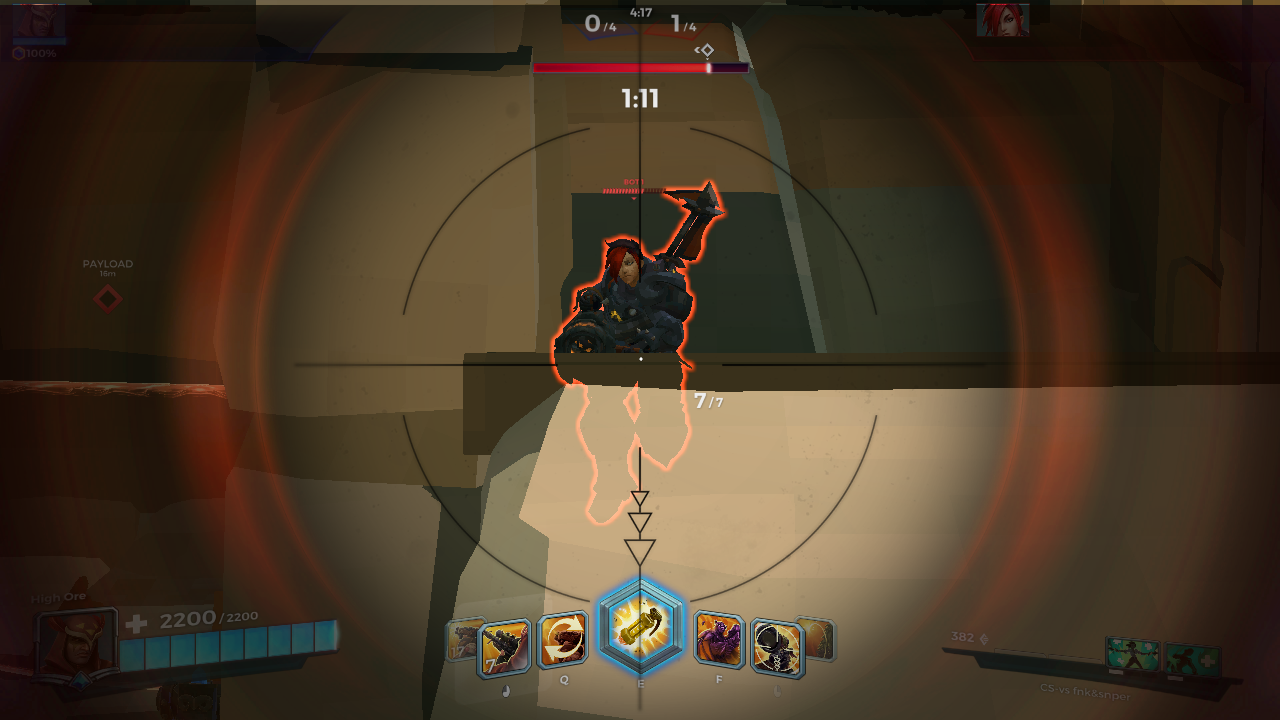model: (541, 183, 737, 529)
